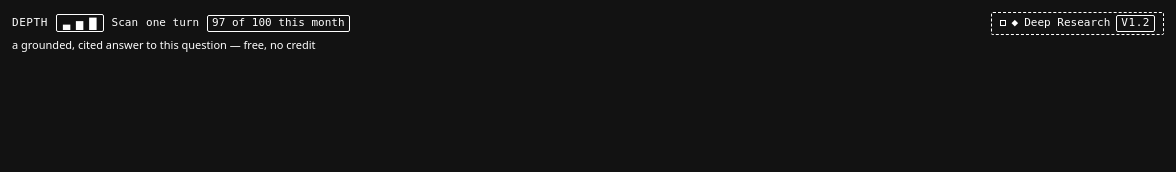
Test: DepthControl — the notched depth slider (Scan / Analysis / Cascade) › the notches read as human labels with relative time words and their price
Expected: the text with test id "depth-value" reads "Scan", x1=112 y1=16 x2=138 y2=29
Expected: the text with test id "depth-hint" shows "no credit", x1=12 y1=37 x2=316 y2=52
Click the button with test id "depth-notch-deep". click: click(80, 23)
box: x1=74 y1=17 x2=85 y2=29
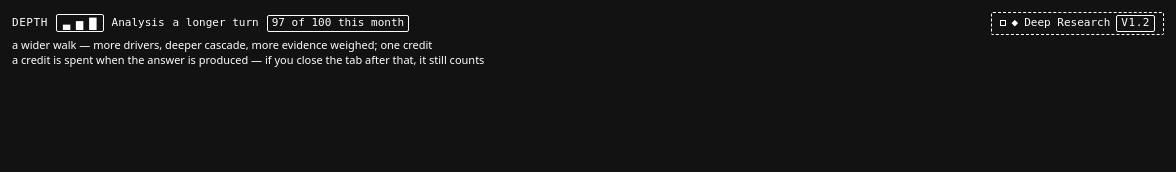
Expected: the text with test id "depth-value" reads "Analysis", x1=112 y1=16 x2=165 y2=29
Expected: the text with test id "depth-hint" shows "one credit", x1=12 y1=37 x2=432 y2=52
Click the button with test id "depth-notch-cascade". click: click(93, 23)
box: x1=87 y1=17 x2=98 y2=29
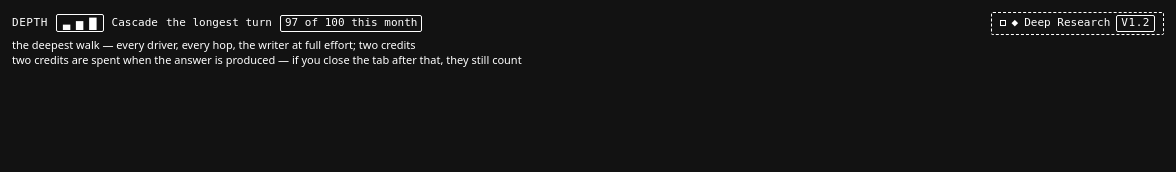
Expected: the text with test id "depth-value" reads "Cascade", x1=112 y1=16 x2=158 y2=29
Expected: the text with test id "depth-hint" shows "two credits", x1=12 y1=37 x2=416 y2=52
